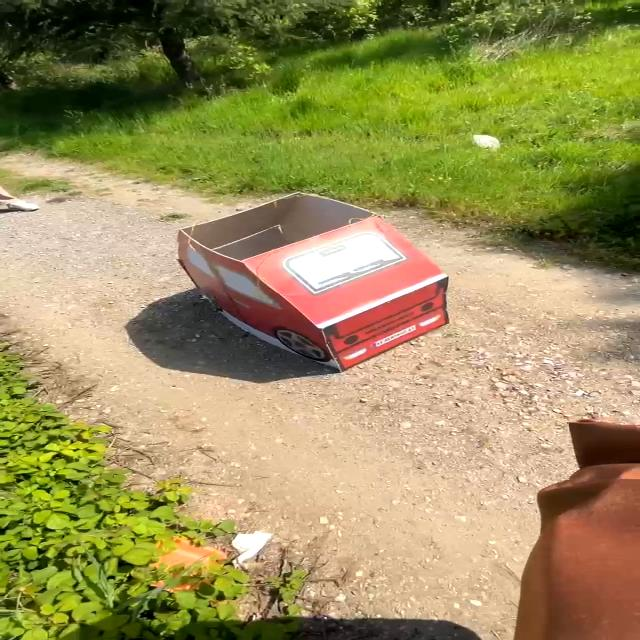red_car: (146, 184, 502, 377)
